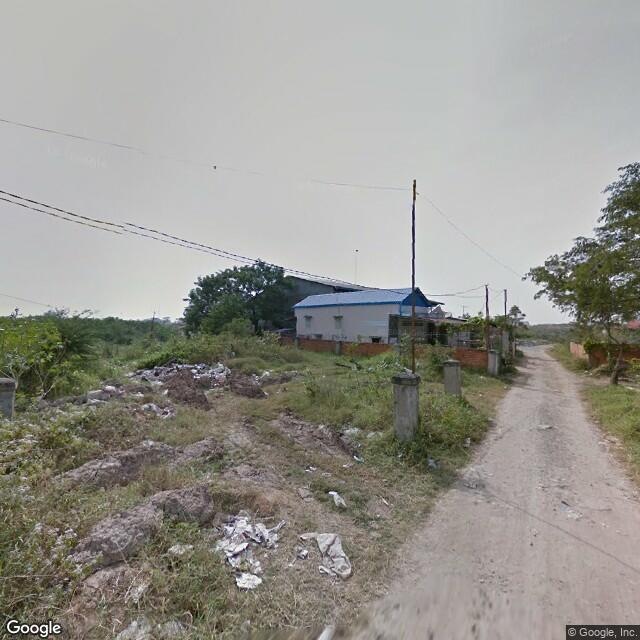litter: (222, 510, 279, 591), (300, 529, 356, 577), (180, 362, 234, 391), (160, 549, 195, 571), (76, 388, 103, 405), (423, 453, 436, 468), (534, 425, 554, 433), (463, 435, 470, 446)
